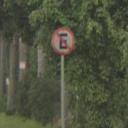NoEstacionar: (50, 26, 75, 58)
